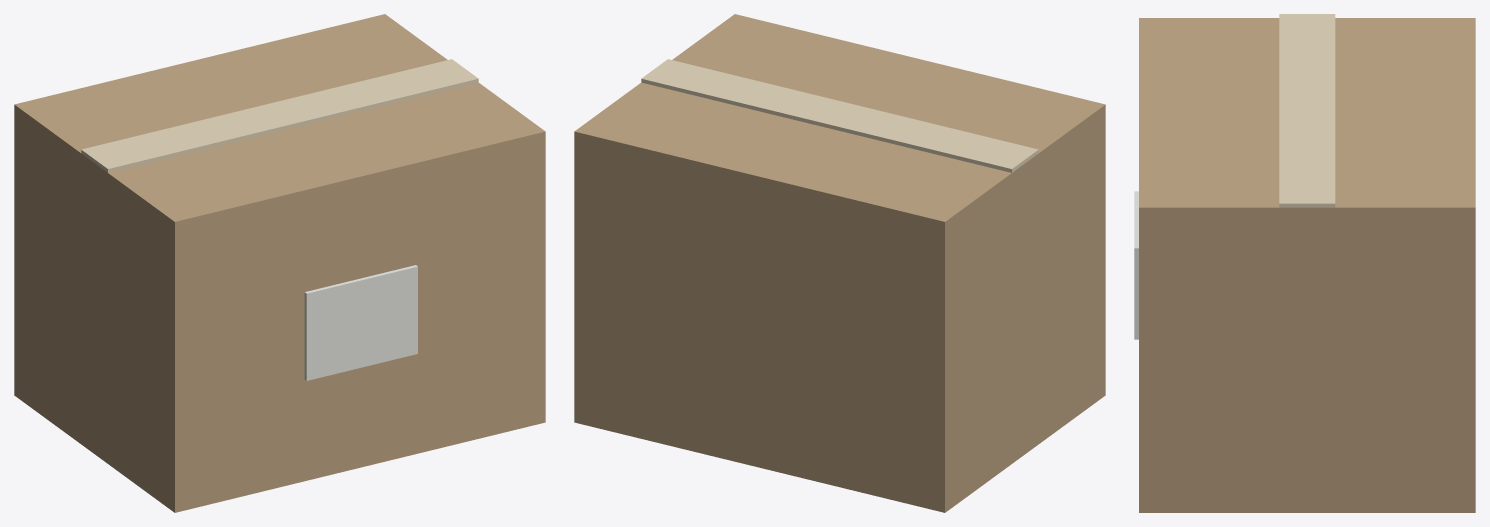
The model's file is box-small.glb.
The picture shows the model from 3 angles, left to right: view 1: azimuth 30°, elevation 25°; view 2: azimuth 150°, elevation 25°; view 3: azimuth 270°, elevation 25°; orthographic projection. The views are drawn at different scales.
Parts seen in each view (by area): view 1: Prop_BoxSmall_mesh; view 2: Prop_BoxSmall_mesh; view 3: Prop_BoxSmall_mesh.
Boxes of the visible parts, bbox=[...] form: Prop_BoxSmall_mesh: bbox=[14, 14, 545, 512]; Prop_BoxSmall_mesh: bbox=[574, 14, 1105, 512]; Prop_BoxSmall_mesh: bbox=[1134, 14, 1475, 512].
Size of the model in its own units: 0.4 by 0.304 by 0.304.
